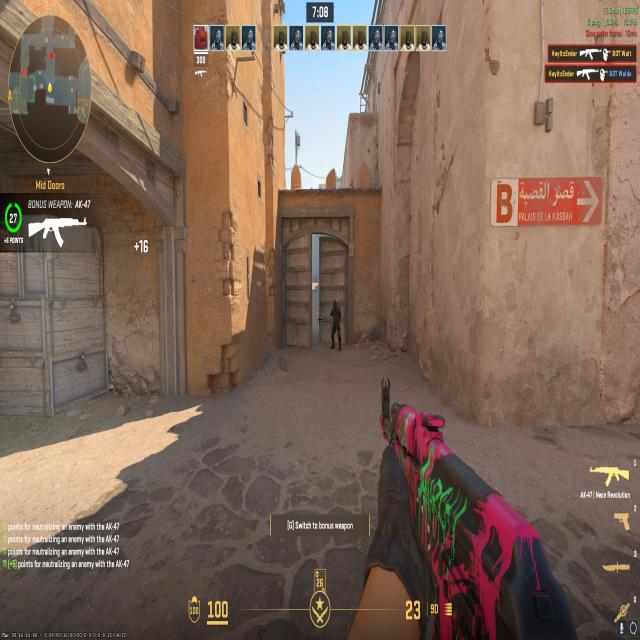ct: (327, 297, 344, 355)
